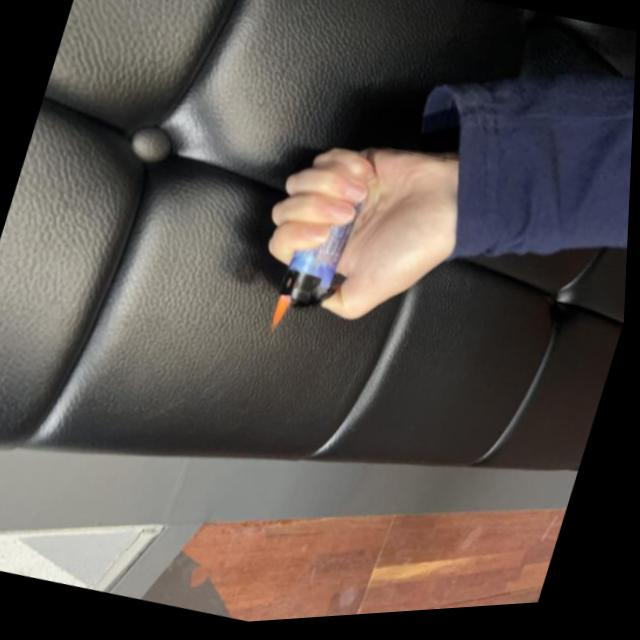Fire: (271, 297, 297, 337)
